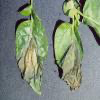Potato leaf late blight: (14, 6, 49, 97), (54, 20, 85, 92)
